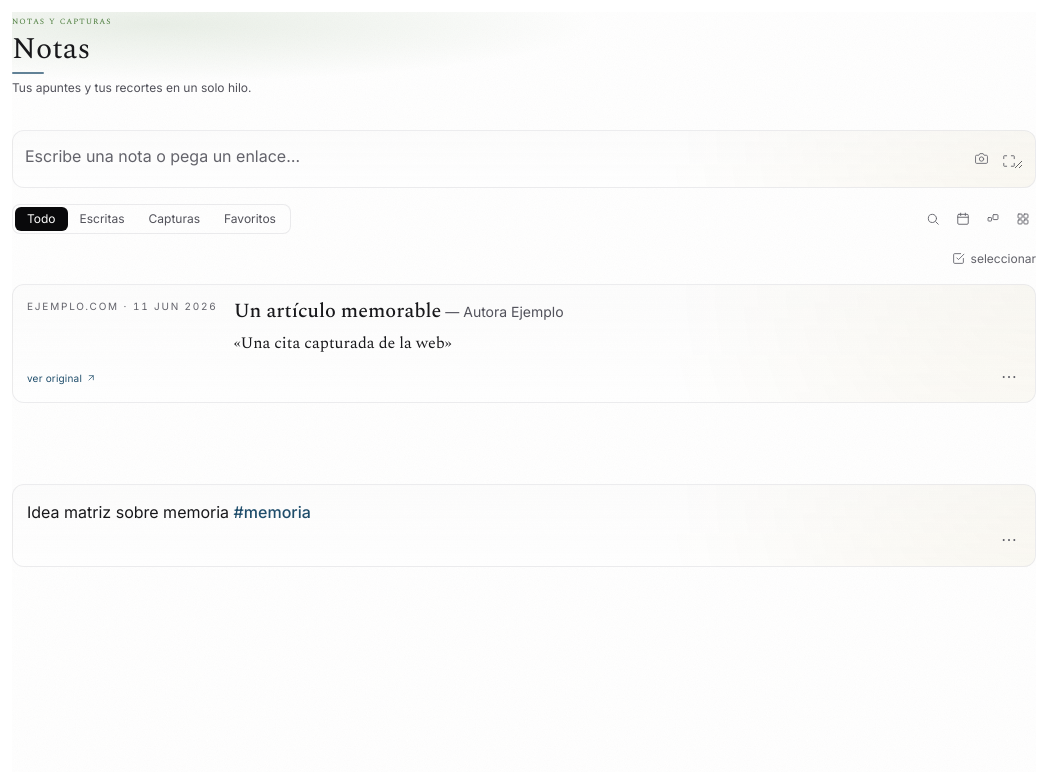
Test case: <NotasFeedView /> › al pegar un enlace solo, ofrece guardarlo como recorte
Type "https://ejemplo.com/articulo" into the text box with placeholder "Escribe una nota o pega un enlace…" at {"x": 524, "y": 156}, box [25,142,1023,168]
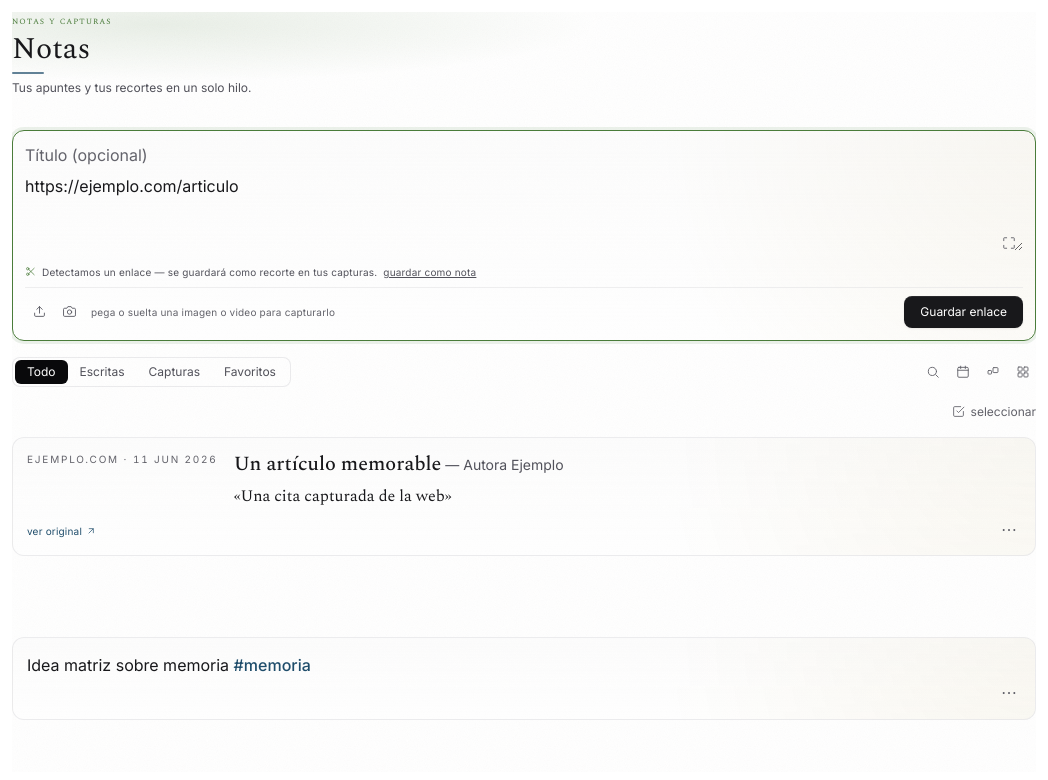
Expected: the text "se guardará como recorte" is shown, [42,266,377,278]
Expected: the button "Guardar enlace" is shown, [904,296,1023,328]
"guardar como nota" anula la heurística y vuelve al flujo de nota.
Click the button "guardar como nota" at {"x": 430, "y": 272}, box [383,265,476,279]
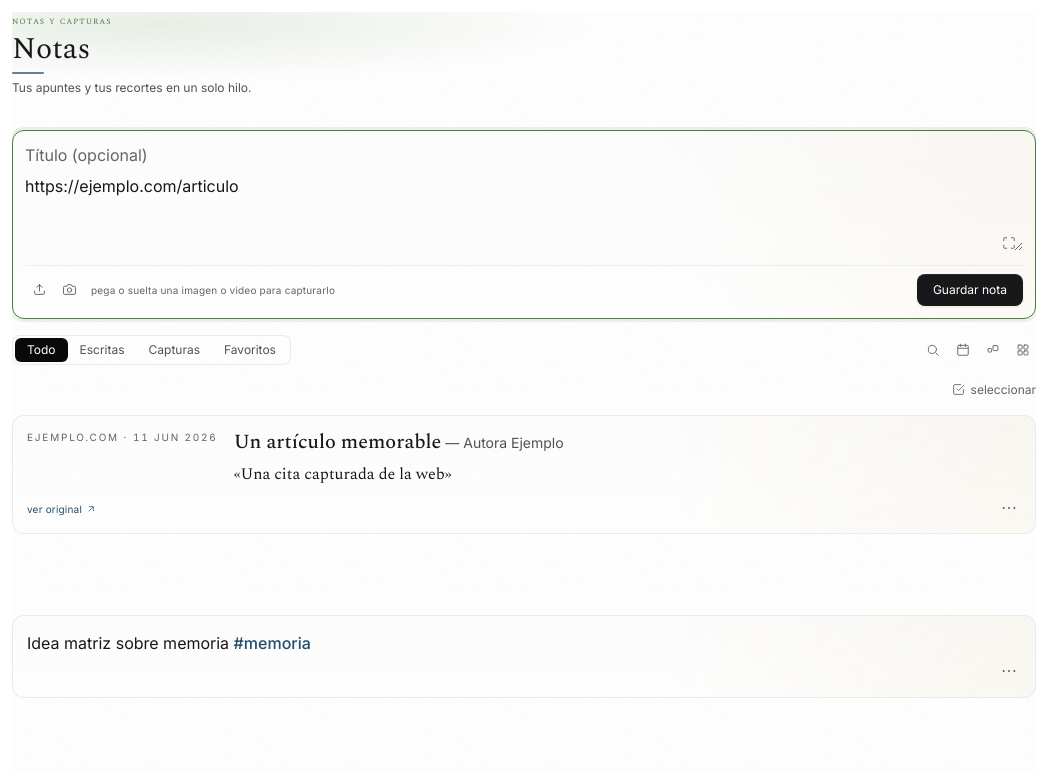
Expected: the button "Guardar nota" is shown, [917,274,1023,306]
